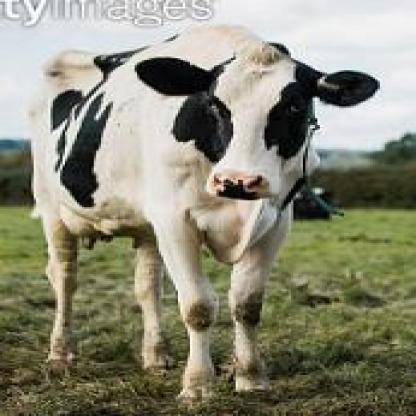cow: (31, 28, 378, 400)
